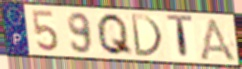5: (30, 8, 60, 53)
9: (67, 11, 94, 55)
A: (197, 17, 239, 64)
D: (128, 12, 165, 59)
Q: (95, 12, 135, 58)
T: (165, 14, 195, 63)
